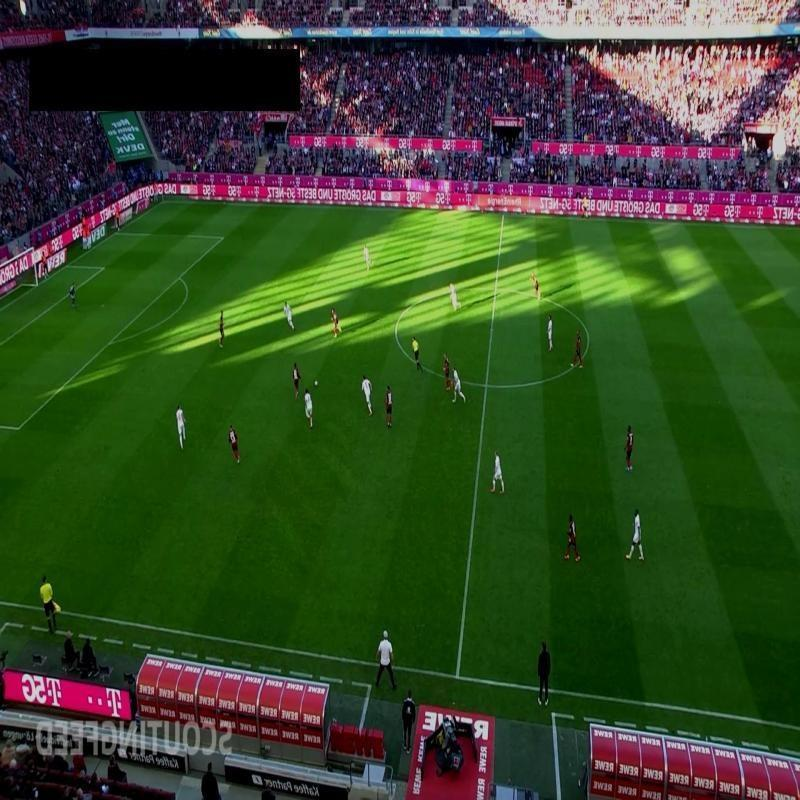1: (156, 194, 170, 208)
10: (172, 272, 186, 286)
11: (102, 334, 116, 347)
12: (10, 419, 24, 434)
13: (494, 208, 512, 222)
14: (488, 280, 504, 298)
15: (480, 376, 494, 390)
16: (450, 671, 464, 685)
2: (108, 226, 122, 240)
3: (60, 258, 74, 272)
7: (96, 261, 110, 275)
9: (216, 231, 230, 245)
c: (390, 316, 404, 330), (584, 330, 595, 347)
